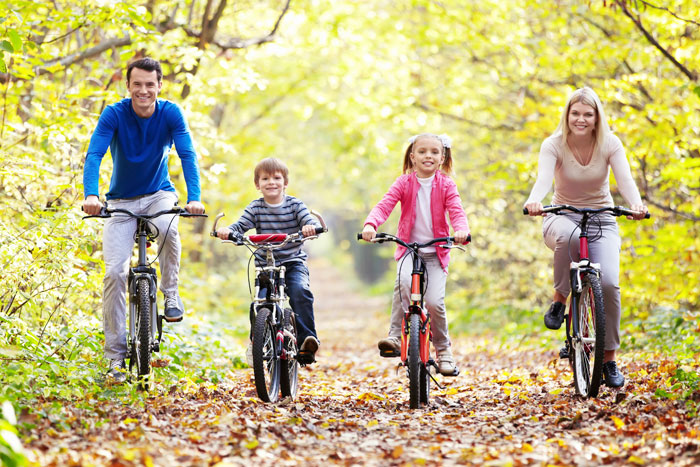Person: (68, 53, 217, 401), (515, 81, 664, 392), (203, 150, 344, 408), (344, 129, 473, 407)
